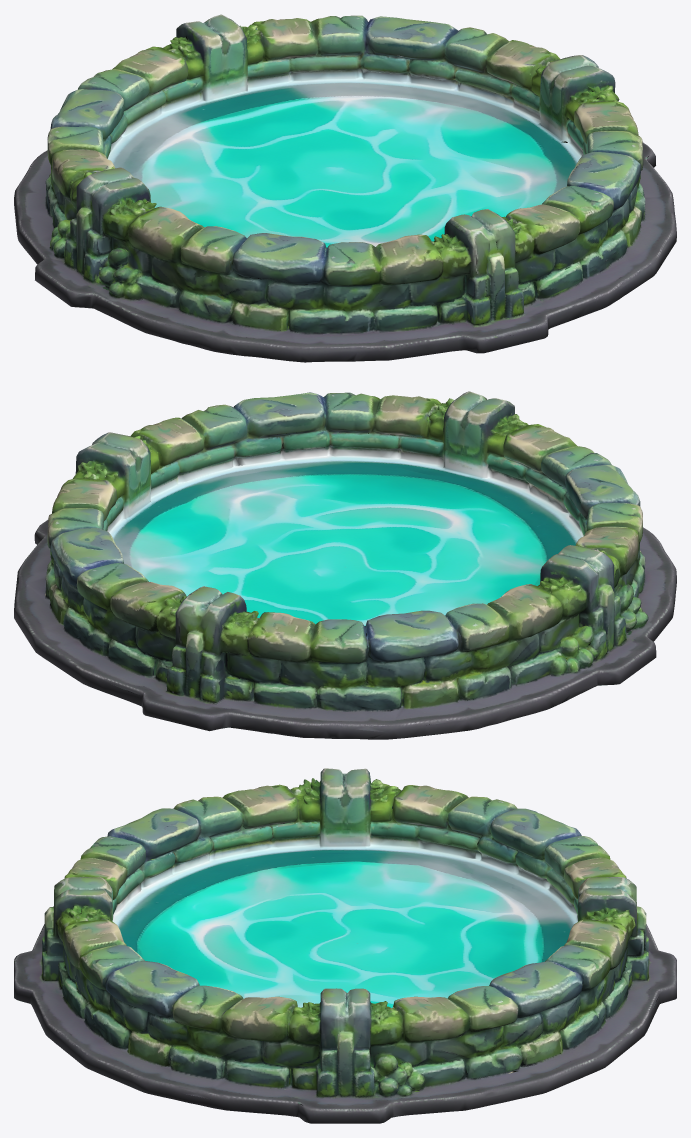
The model's file is Whispering_Well.fbx.
The picture shows the model from 3 angles, top to bottom: view 1: azimuth 30°, elevation 25°; view 2: azimuth 150°, elevation 25°; view 3: azimuth 270°, elevation 25°; orthographic projection. The views are drawn at different scales.
Parts seen in each view (by area): view 1: Whispering_Well_LOD0; view 2: Whispering_Well_LOD0; view 3: Whispering_Well_LOD0.
Boxes of the visible parts, left/top/right/bottom form: Whispering_Well_LOD0: left=14, top=14, right=676, bottom=362; Whispering_Well_LOD0: left=14, top=391, right=676, bottom=739; Whispering_Well_LOD0: left=14, top=768, right=676, bottom=1123.
Size of what is drawn, in the model's own units: 1.9 by 0.31 by 1.9.
1 material, 1 textured.
